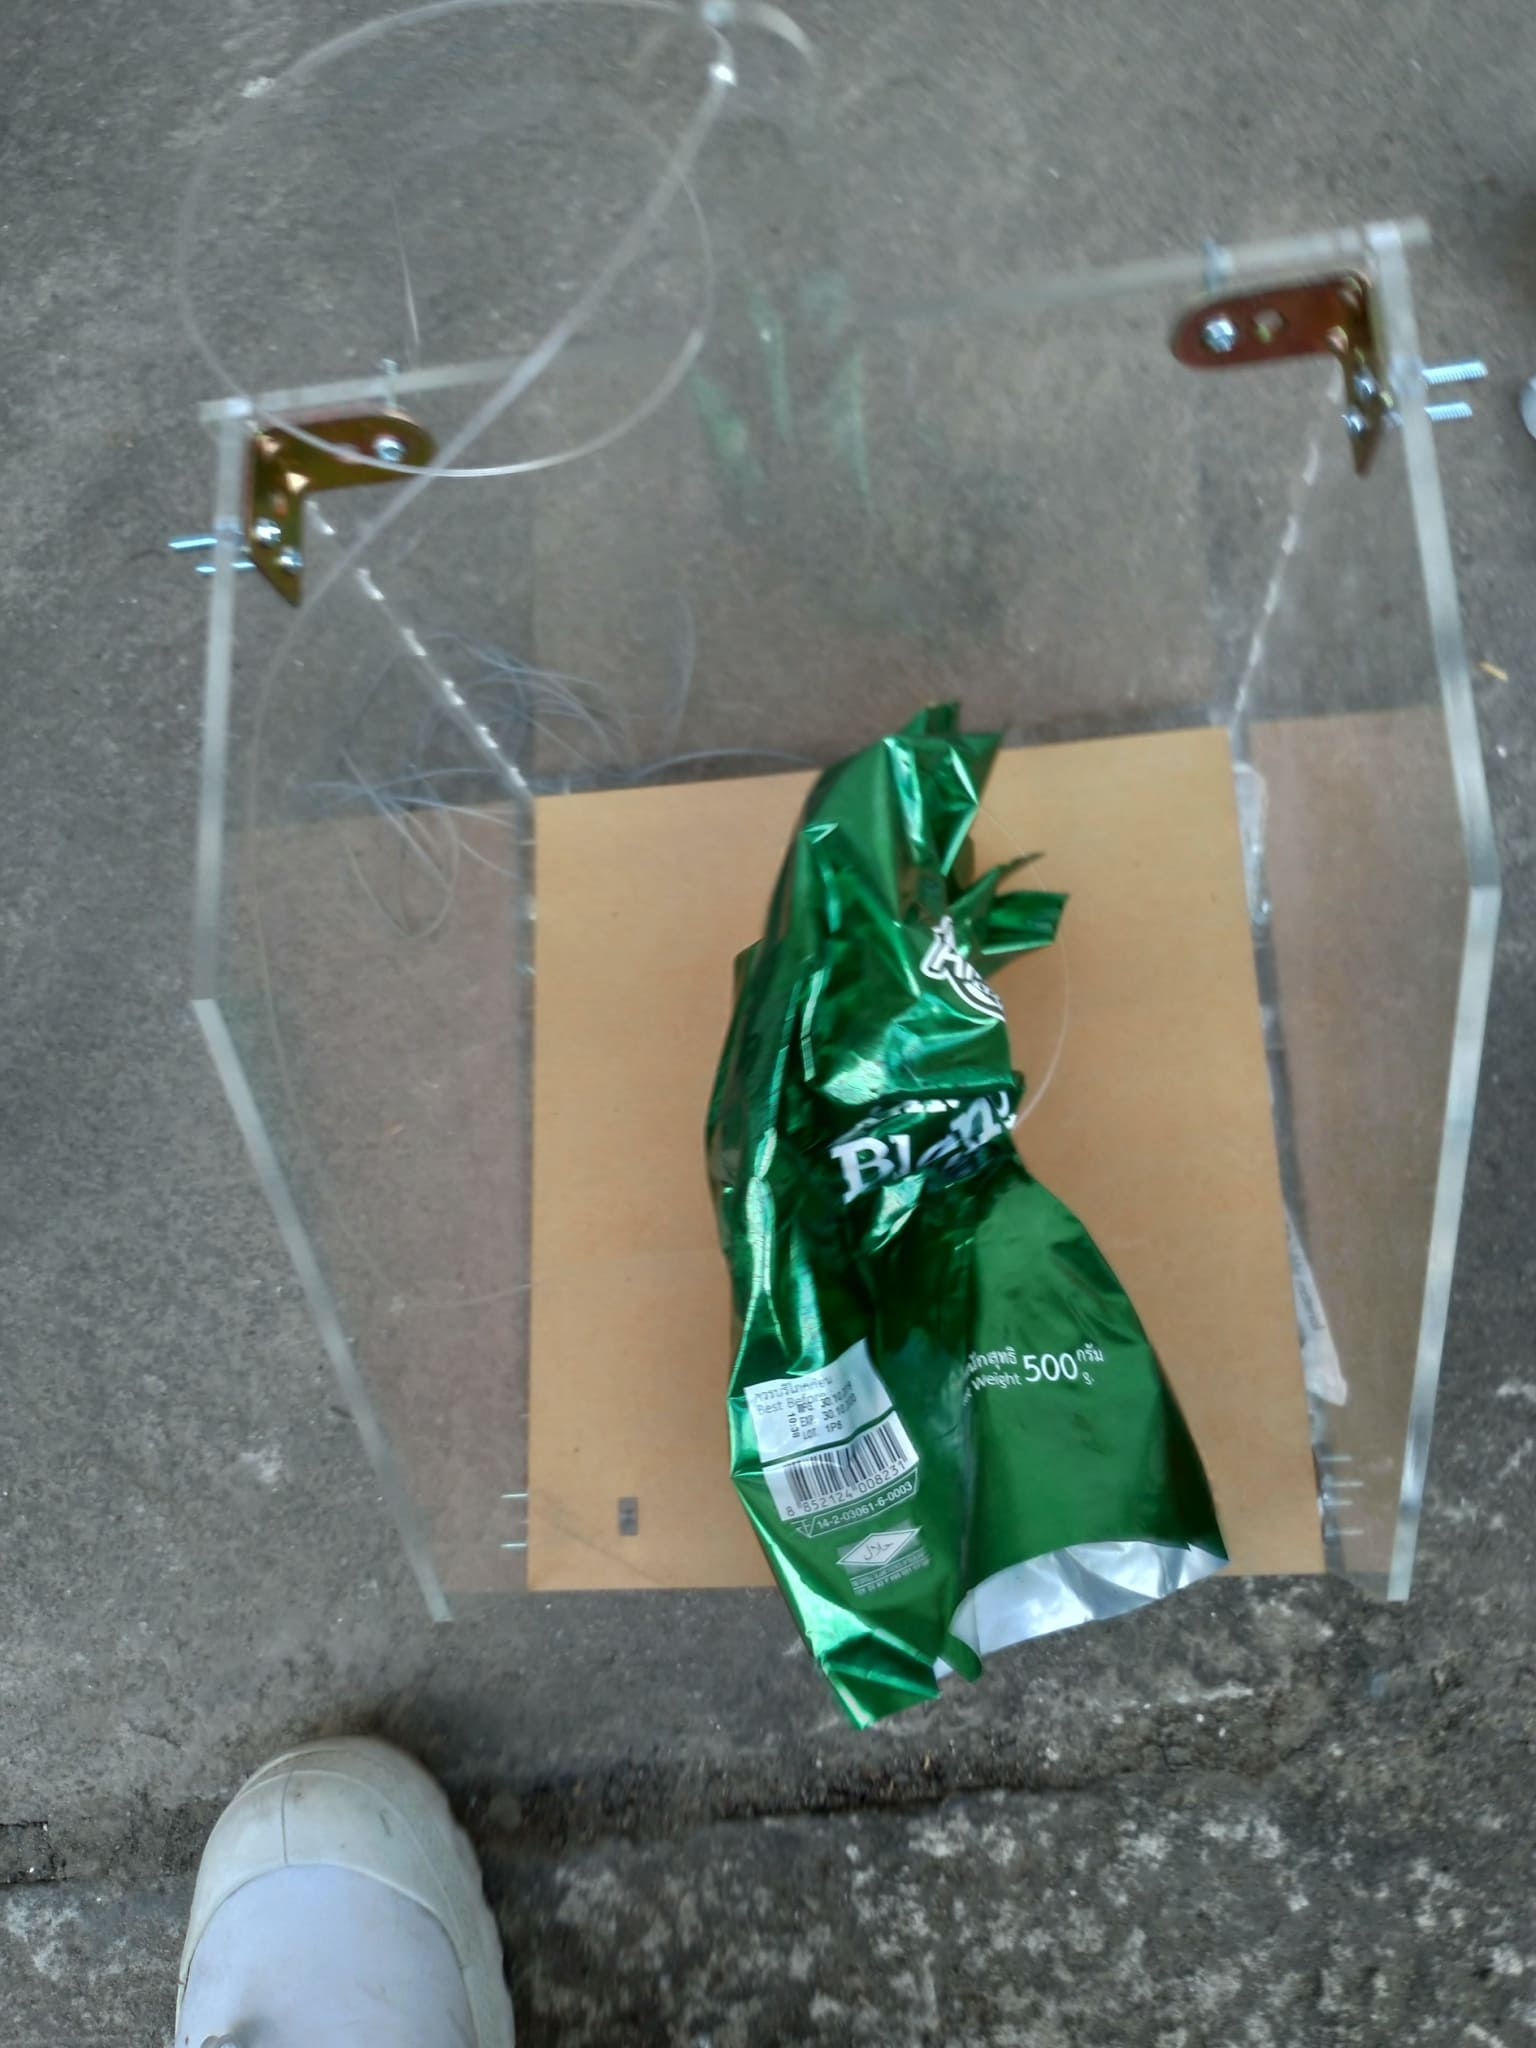Others: (713, 689, 1238, 1705)
